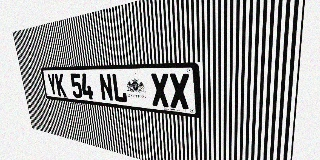4: (80, 73, 94, 100)
5: (70, 73, 83, 98)
K: (54, 74, 66, 97)
L: (111, 73, 127, 103)
N: (98, 73, 114, 102)
X: (169, 73, 190, 109), (150, 73, 170, 107)
Y: (47, 74, 58, 96)
